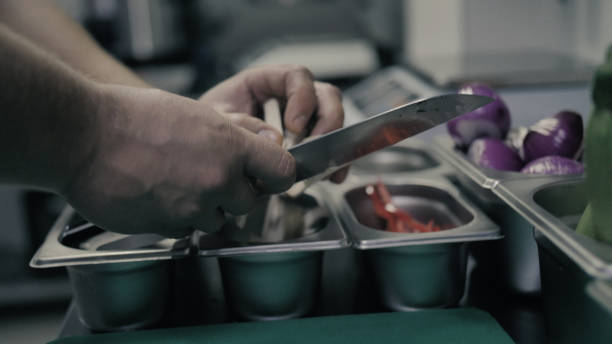knife: (57, 92, 499, 251)
